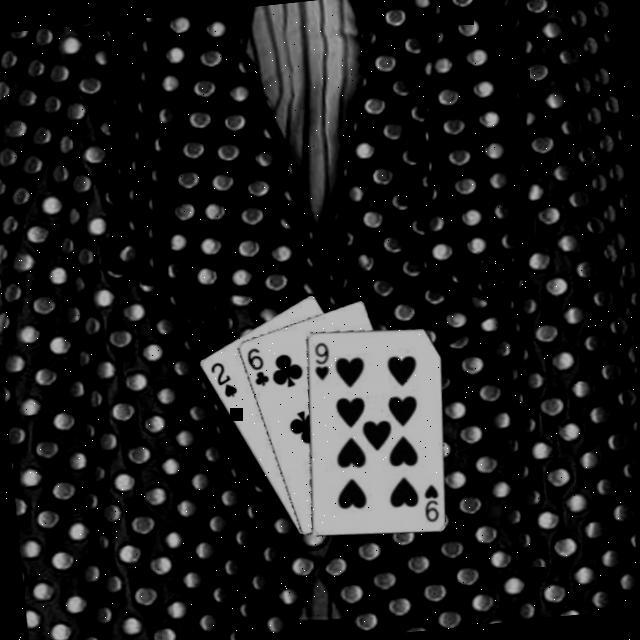2S: (204, 354, 238, 400)
6C: (242, 342, 270, 387)
9H: (307, 336, 331, 381), (418, 478, 442, 522)
